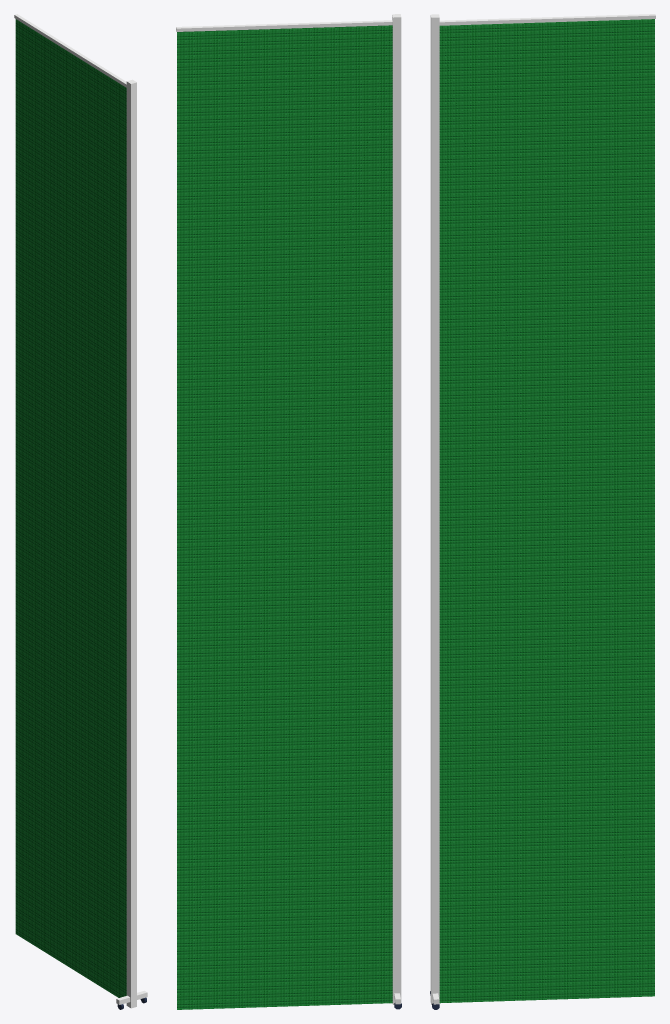
File: Disc_Rotating_part1.FBX
The picture shows the model from 3 angles, left to right: view 1: azimuth 90°, elevation 25°; view 2: azimuth 150°, elevation 25°; view 3: azimuth 330°, elevation 25°; orthographic projection. The views are drawn at different scales.
Visible parts, largest first — view 1: Disc_Rotating_part1; view 2: Disc_Rotating_part1; view 3: Disc_Rotating_part1.
Boxes of the visible parts, x1,y1,x2,y2 form: Disc_Rotating_part1: (14,14,147,1009); Disc_Rotating_part1: (176,14,401,1009); Disc_Rotating_part1: (430,14,655,1009).
Size of the model in its own units: 18.16 by 101 by 13.11.
